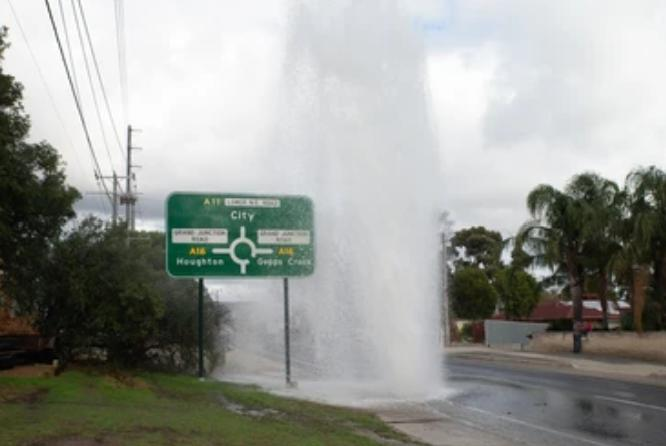pipe burst: (228, 0, 461, 402)
